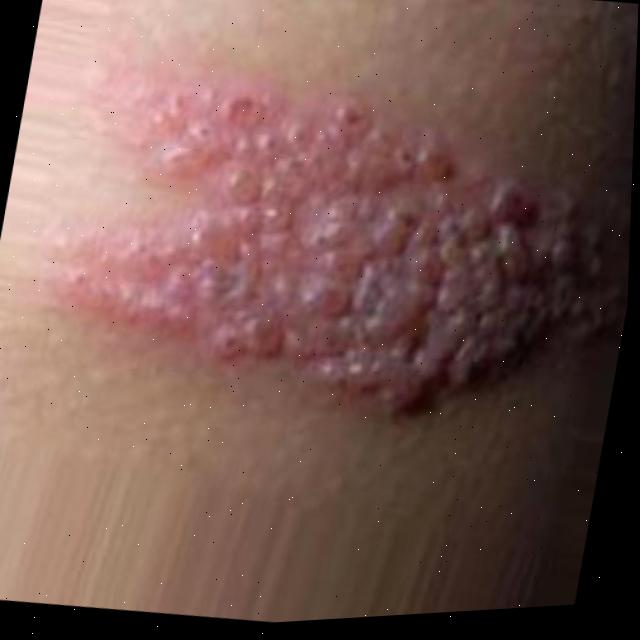Shingles: (53, 55, 609, 441)
